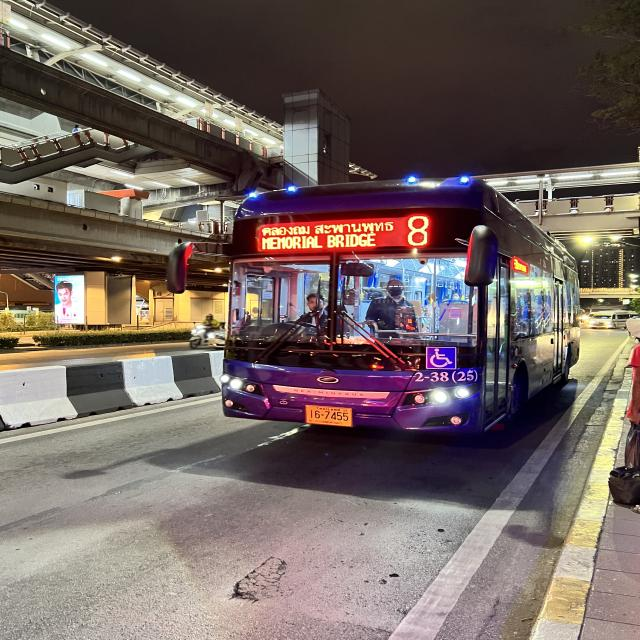Bus Line Number: (399, 209, 435, 251)
Bus Side Number: (411, 368, 482, 385)
Destination Sign: (258, 219, 400, 255)
TSB-Bus: (219, 176, 581, 440)
